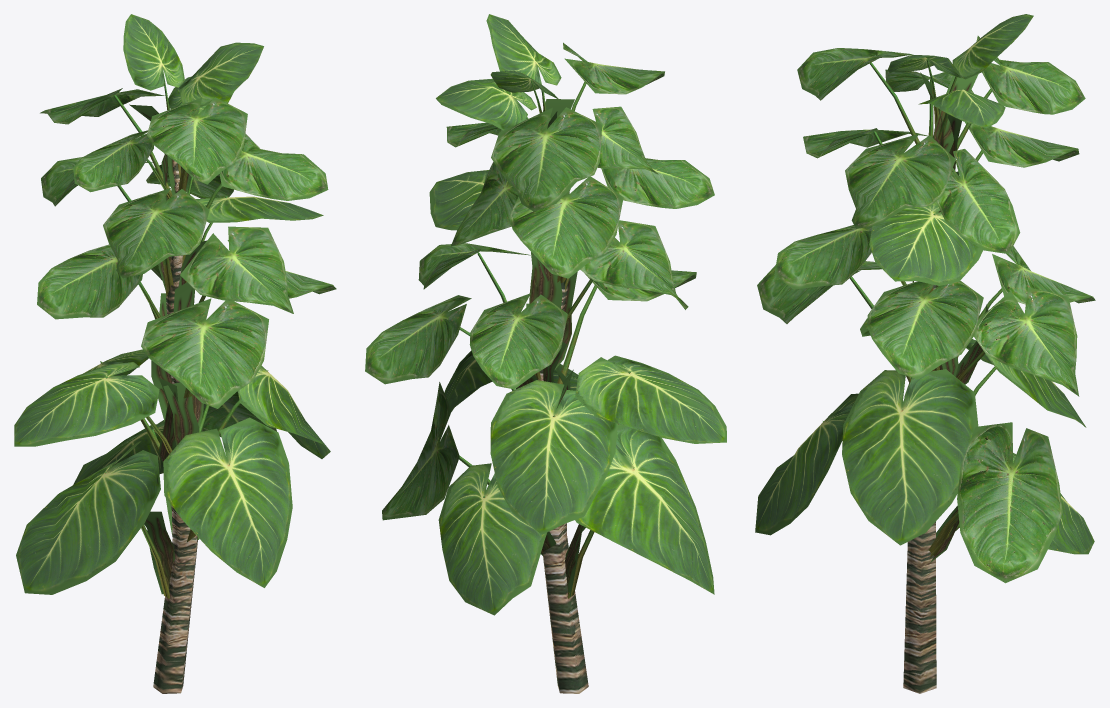
File: zhiwu10.fbx
The picture shows the model from 3 angles, left to right: view 1: azimuth 30°, elevation 25°; view 2: azimuth 150°, elevation 25°; view 3: azimuth 270°, elevation 25°; orthographic projection. The views are drawn at different scales.
Parts seen in each view (by area): view 1: zhiwu10; view 2: zhiwu10; view 3: zhiwu10.
Part boxes in pixels (left/top/right/bottom): zhiwu10: left=14, top=14, right=336, bottom=693; zhiwu10: left=365, top=14, right=726, bottom=693; zhiwu10: left=755, top=14, right=1095, bottom=693.
Size of the model in its own units: 20.95 by 40.88 by 18.6.
Materials: 1 (1 with a texture image).
